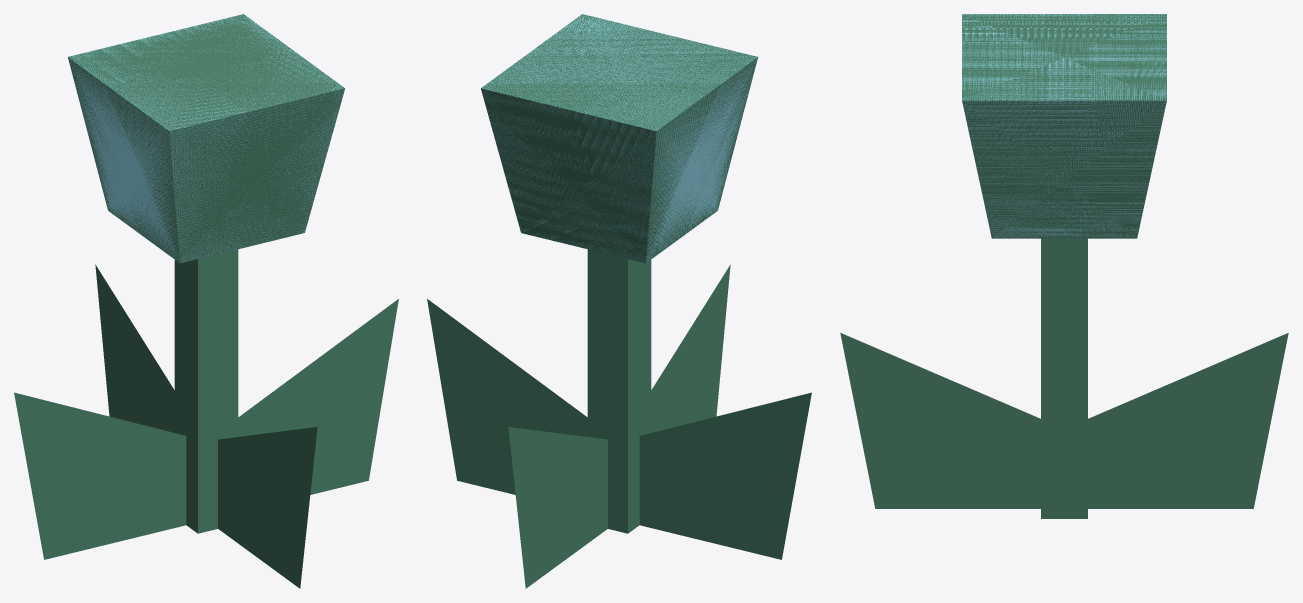
The model's file is Flower_Tall_Yellow_02.fbx.
3 renders of one model, left to right at view 1: azimuth 30°, elevation 25°; view 2: azimuth 150°, elevation 25°; view 3: azimuth 270°, elevation 25°, orthographic.
Parts seen in each view (by area): view 1: Mesh1_Flower_Tall_Yellow Model, Mesh5_Flower_Tall_Yellow Model, Mesh2_Flower_Tall_Yellow Model, Mesh4_Flower_Tall_Yellow Model, Mesh3_Flower_Tall_Yellow Model; view 2: Mesh1_Flower_Tall_Yellow Model, Mesh5_Flower_Tall_Yellow Model, Mesh2_Flower_Tall_Yellow Model, Mesh3_Flower_Tall_Yellow Model, Mesh4_Flower_Tall_Yellow Model; view 3: Mesh1_Flower_Tall_Yellow Model, Mesh3_Flower_Tall_Yellow Model, Mesh4_Flower_Tall_Yellow Model.
Boxes of the visible parts, x1,y1,x2,y2 form: Mesh1_Flower_Tall_Yellow Model: [68, 14, 344, 533]; Mesh5_Flower_Tall_Yellow Model: [14, 392, 186, 559]; Mesh2_Flower_Tall_Yellow Model: [238, 299, 398, 494]; Mesh4_Flower_Tall_Yellow Model: [218, 427, 317, 588]; Mesh3_Flower_Tall_Yellow Model: [95, 264, 174, 432]; Mesh1_Flower_Tall_Yellow Model: [481, 14, 757, 533]; Mesh5_Flower_Tall_Yellow Model: [639, 392, 811, 559]; Mesh2_Flower_Tall_Yellow Model: [427, 299, 587, 494]; Mesh3_Flower_Tall_Yellow Model: [508, 427, 607, 588]; Mesh4_Flower_Tall_Yellow Model: [651, 264, 730, 432]; Mesh1_Flower_Tall_Yellow Model: [962, 14, 1166, 518]; Mesh3_Flower_Tall_Yellow Model: [1088, 333, 1288, 508]; Mesh4_Flower_Tall_Yellow Model: [840, 333, 1040, 508].
Bounding box in the file's own units: 0.4859 × 0.54 × 0.4859.
